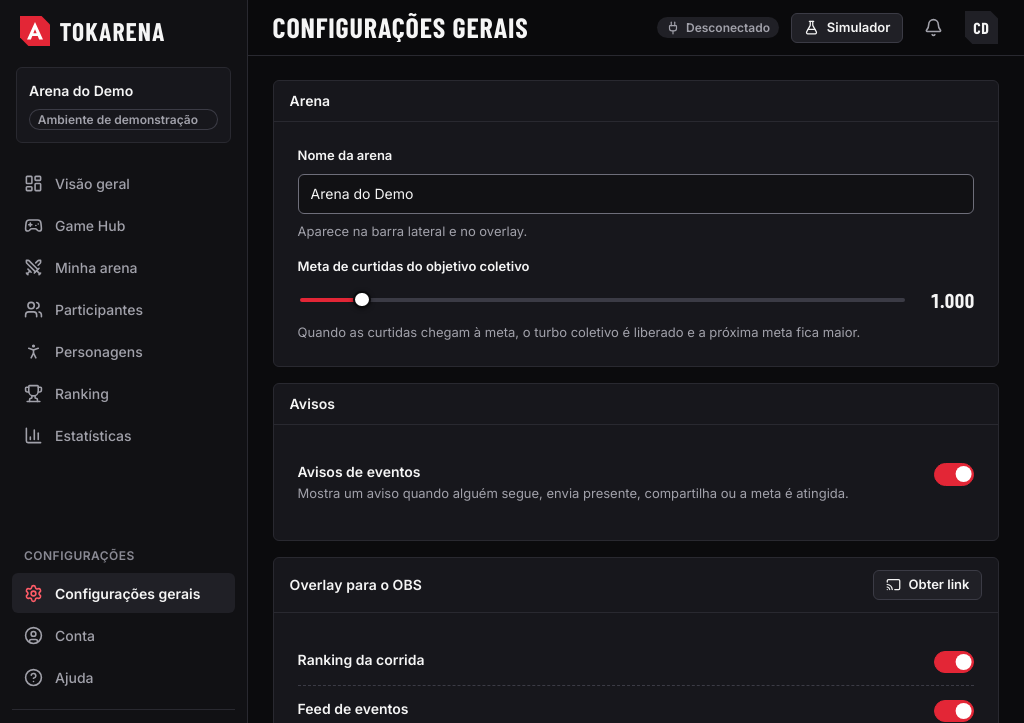
Test case: configurações e conta › valida o nome da arena e refletir na barra lateral
Replace the text in the field labelled "Nome da arena" with "x". click: (636, 194)
box: [298,174,974,214]
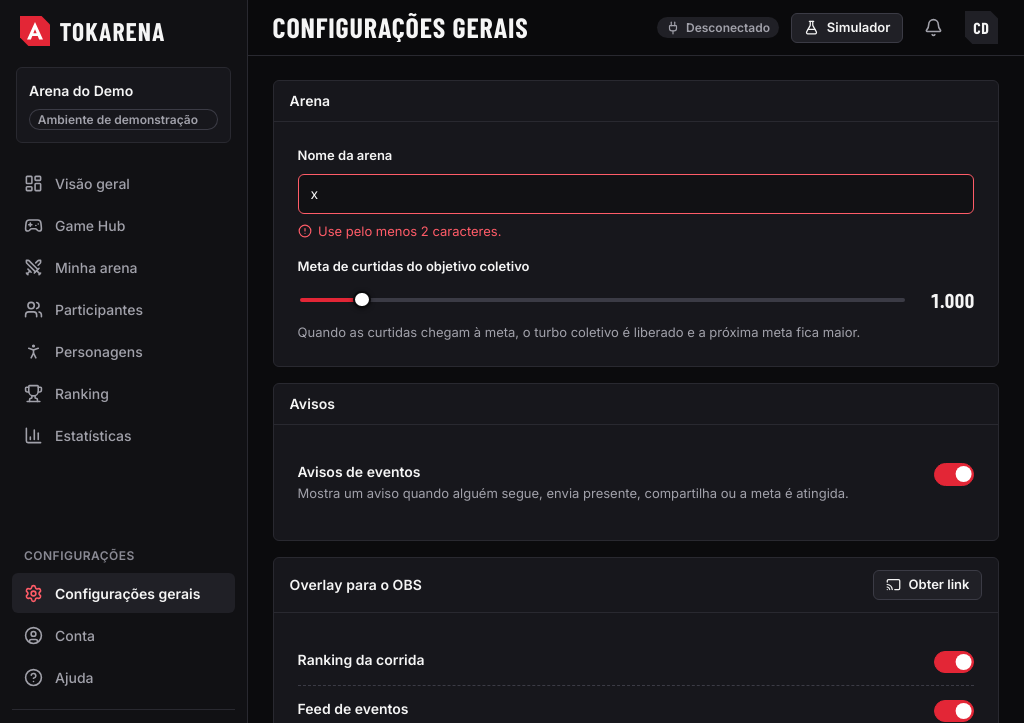
Result: the message "Use pelo menos 2 caracteres." is shown at [298,223,502,239]
Replace the text in the field labelled "Nome da arena" with "Arena do Teste". click: (636, 194)
box: [298,174,974,214]
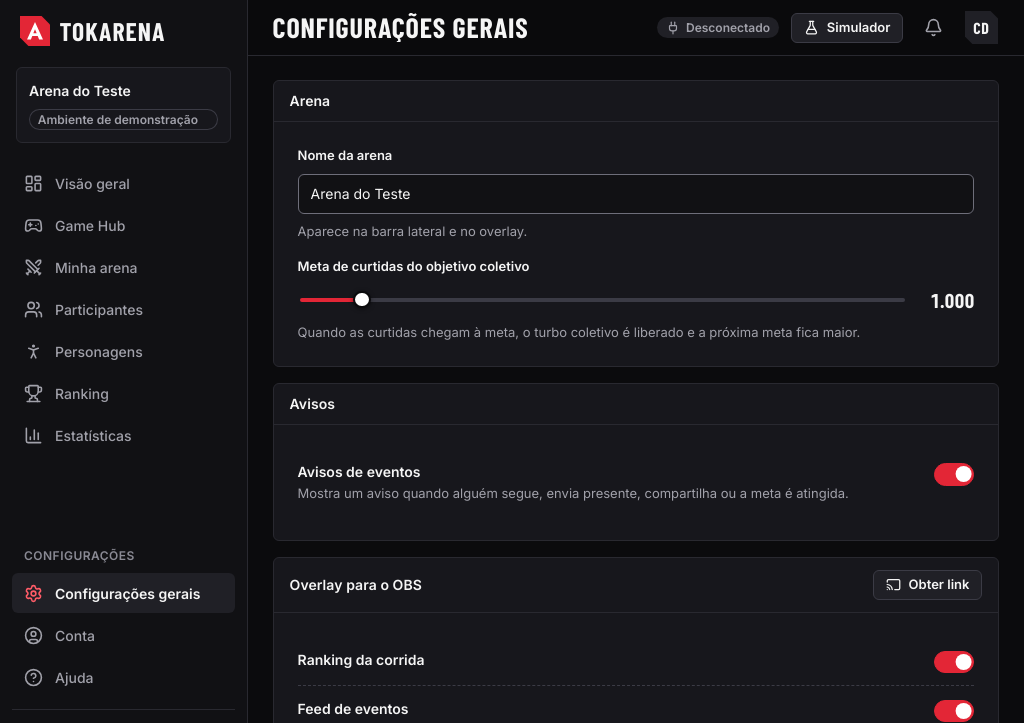
Result: the text "Arena do Teste" is shown at [29,82,131,99]
